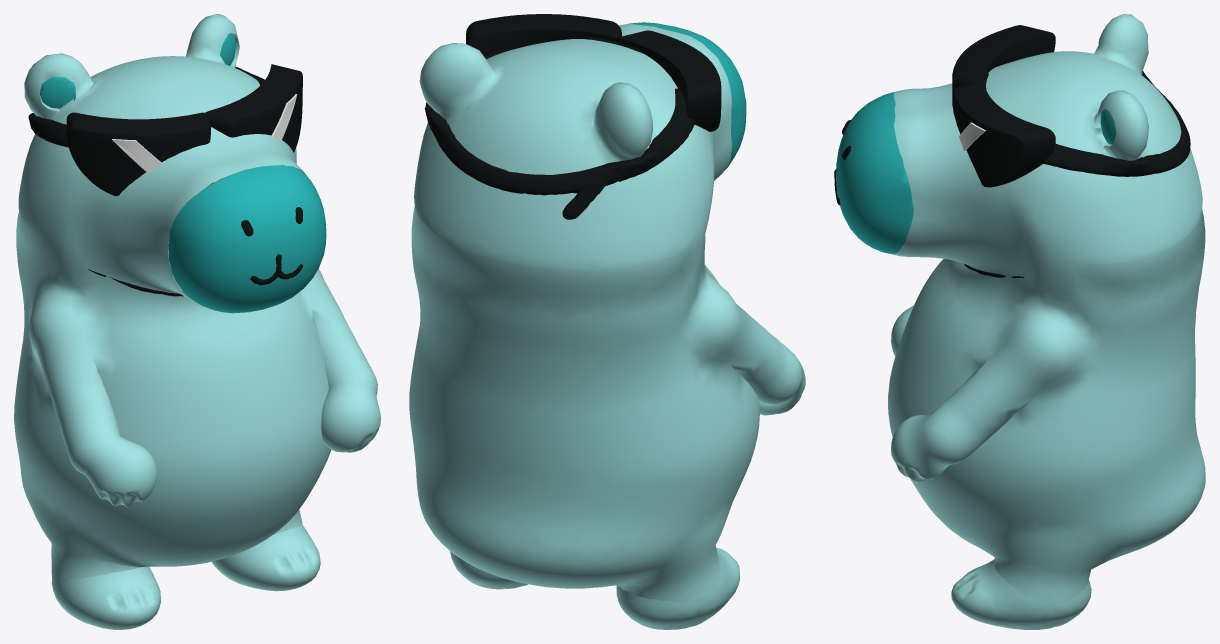
File: kubara.glb
3 renders of one model, left to right at view 1: azimuth 30°, elevation 25°; view 2: azimuth 150°, elevation 25°; view 3: azimuth 270°, elevation 25°, orthographic. The views are drawn at different scales.
Visible parts, largest first — view 1: body, head, muzzle, lens_r, arm_r, foot_r, foot_l, lens_l, arm_l, hand_r, hand_l, ear_r (+5 smaller); view 2: body, head, glasses, lens_r, arm_r, lens_l, ear_l, ear_r, foot_r, leg_r, muzzle, foot_l (+1 smaller); view 3: body, head, muzzle, arm_l, lens_l, foot_l, lens_r, glasses, leg_l, ear_l, hand_l, ear_r.
Boxes of the visible parts, box(x1,y1,x2,y2) form: body: box(14, 211, 331, 566); head: box(18, 56, 307, 307); muzzle: box(168, 165, 326, 313); lens_r: box(66, 112, 210, 196); arm_r: box(36, 332, 120, 474); foot_r: box(51, 566, 160, 629); foot_l: box(211, 524, 320, 591); lens_l: box(205, 64, 302, 152); arm_l: box(306, 269, 377, 395); hand_r: box(84, 436, 157, 507); hand_l: box(321, 380, 380, 452); ear_r: box(24, 53, 93, 119); body: box(409, 206, 759, 588); head: box(414, 23, 731, 271); glasses: box(424, 37, 695, 219); lens_r: box(615, 30, 721, 131); arm_r: box(726, 304, 802, 404); lens_l: box(466, 14, 621, 55); ear_l: box(419, 43, 495, 118); ear_r: box(593, 82, 652, 161); foot_r: box(616, 548, 740, 629); leg_r: box(619, 545, 720, 604); muzzle: box(629, 22, 746, 169); foot_l: box(450, 551, 527, 589); body: box(888, 209, 1205, 571); head: box(893, 51, 1202, 277); muzzle: box(836, 92, 913, 254); arm_l: box(924, 341, 1045, 465); lens_l: box(952, 81, 1055, 187); foot_l: box(951, 559, 1091, 629); lens_r: box(952, 25, 1055, 90); glasses: box(984, 53, 1190, 176); leg_l: box(993, 557, 1090, 606); ear_l: box(1093, 90, 1148, 160); hand_l: box(891, 415, 948, 481); ear_r: box(1094, 14, 1148, 74).
Bounding box in the file's own units: 0.6083 × 1 × 0.6439.
